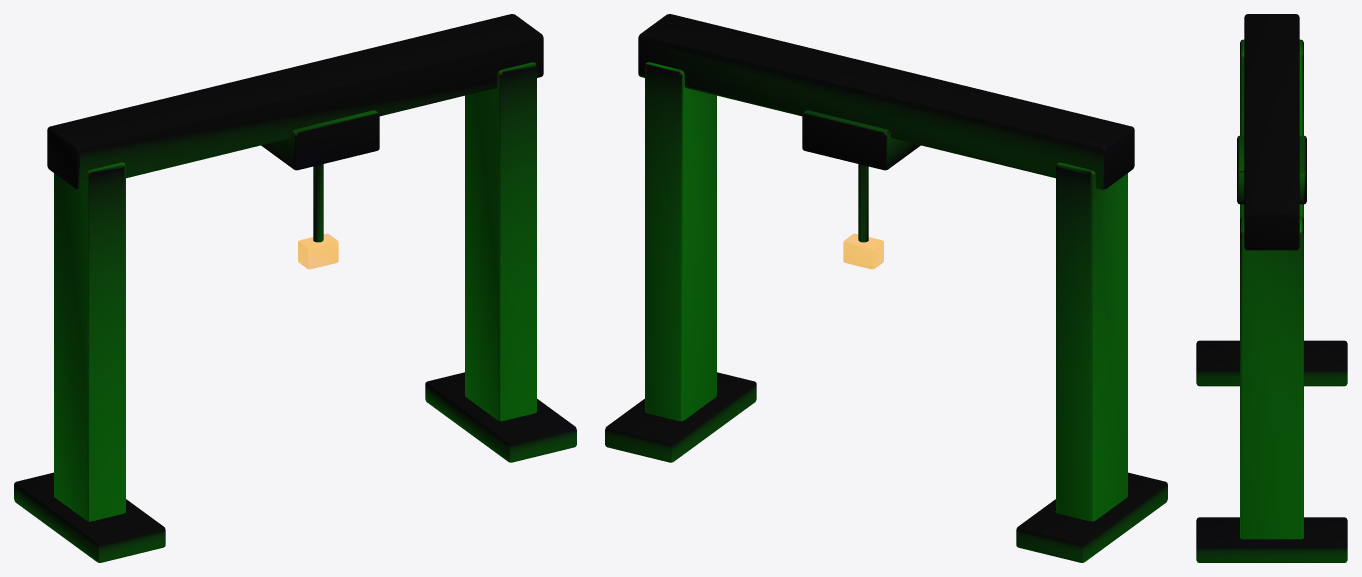
Rendered from hero_mech_gantry.glb.
3 views of the same model, side by side, from view 1: azimuth 30°, elevation 25°; view 2: azimuth 150°, elevation 25°; view 3: azimuth 270°, elevation 25° (orthographic). The views are drawn at different scales.
Visible parts, largest first — view 1: HeroMechGantry; view 2: HeroMechGantry; view 3: HeroMechGantry.
Boxes of the visible parts, bbox=[...] form: HeroMechGantry: bbox=[14, 14, 576, 562]; HeroMechGantry: bbox=[605, 14, 1167, 562]; HeroMechGantry: bbox=[1196, 14, 1347, 562].
Bounding box in the file's own units: 8.4 × 6.61 × 2.6.
